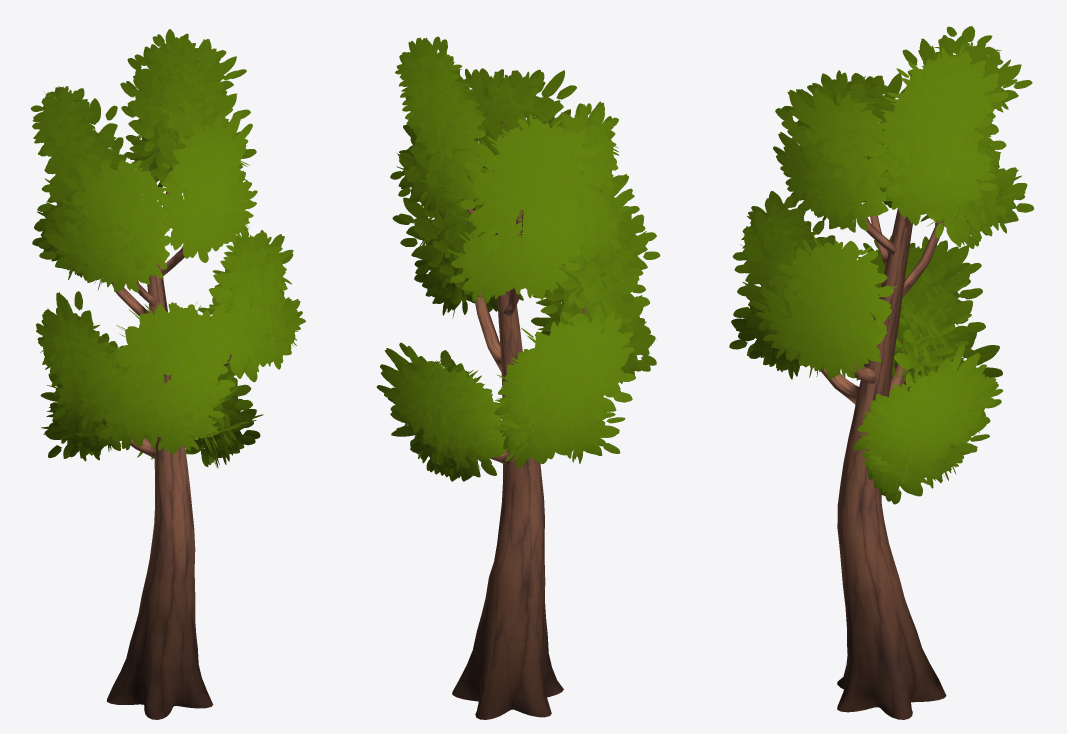
Rendered from sn_common_tree_3.glb.
3 renders of one model, left to right at view 1: azimuth 30°, elevation 25°; view 2: azimuth 150°, elevation 25°; view 3: azimuth 270°, elevation 25°, orthographic. The views are drawn at different scales.
Visible parts, largest first — view 1: CommonTree_3; view 2: CommonTree_3; view 3: CommonTree_3.
Part boxes in pixels (x1,y1,x2,y2): CommonTree_3: (30,29,305,719); CommonTree_3: (376,36,660,719); CommonTree_3: (729,26,1033,719).
Size of the model in its own units: 4.06 by 9.43 by 4.24.
Materials: 2 (2 with a texture image).
